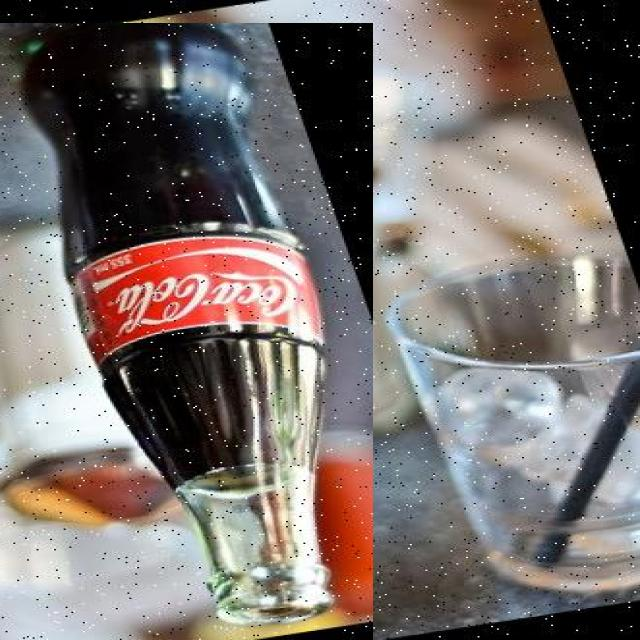coca-cola: (0, 23, 373, 640)
